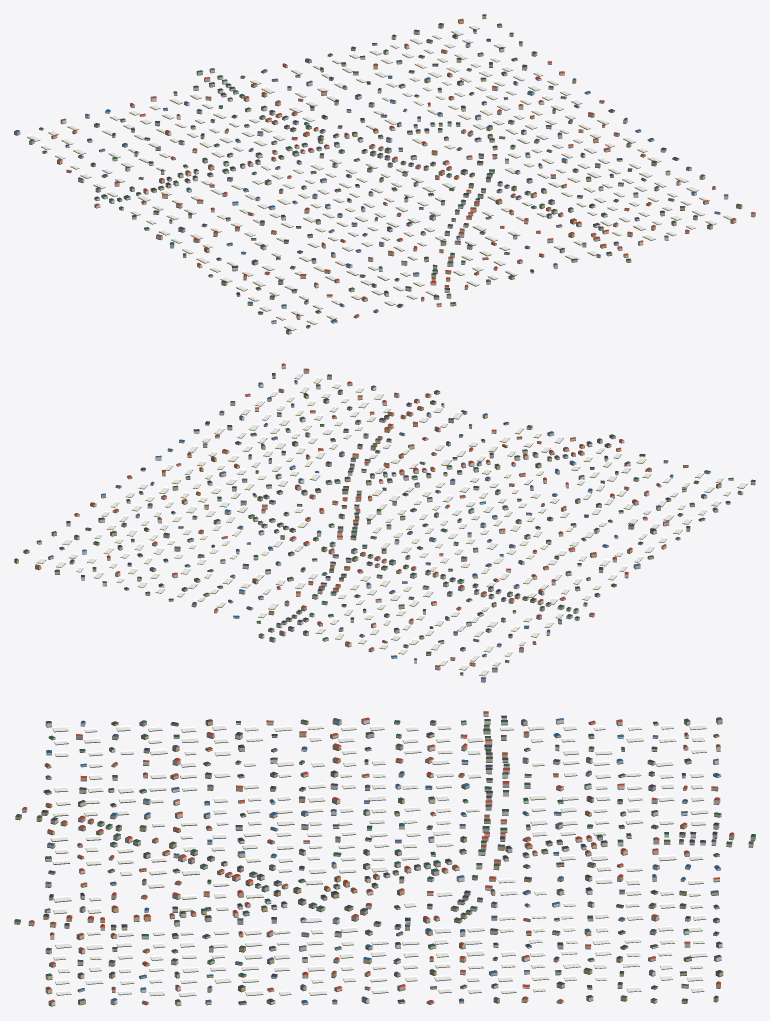
The model's file is buildings_T_E04_N03.glb.
The picture shows the model from 3 angles, top to bottom: view 1: azimuth 30°, elevation 25°; view 2: azimuth 150°, elevation 25°; view 3: azimuth 270°, elevation 25°; orthographic projection. The views are drawn at different scales.
Parts seen in each view (by area): view 1: T_E04_N03_roofs_agri_greenhouse_arch, T_E04_N03_slope_seating_foundations, T_E04_N03_walls_wall_dalat_cream_stucco, T_E04_N03_walls_wall_pastel_sand_gray, T_E04_N03_walls_wall_french_ochre_villa, T_E04_N03_walls_wall_modern_warm_white, T_E04_N03_roofs_roof_terracotta_gable, T_E04_N03_roofs_roof_slate_French_villa_hip, T_E04_N03_roofs_roof_pine_green_hip, T_E04_N03_roofs_roof_highland_blue_gable; view 2: T_E04_N03_roofs_agri_greenhouse_arch, T_E04_N03_slope_seating_foundations, T_E04_N03_walls_wall_dalat_cream_stucco, T_E04_N03_walls_wall_french_ochre_villa, T_E04_N03_walls_wall_pastel_sand_gray, T_E04_N03_roofs_roof_terracotta_gable, T_E04_N03_roofs_roof_slate_French_villa_hip, T_E04_N03_walls_wall_modern_warm_white, T_E04_N03_roofs_roof_pine_green_hip, T_E04_N03_roofs_roof_highland_blue_gable; view 3: T_E04_N03_roofs_agri_greenhouse_arch, T_E04_N03_slope_seating_foundations, T_E04_N03_walls_wall_dalat_cream_stucco, T_E04_N03_walls_wall_french_ochre_villa, T_E04_N03_walls_wall_pastel_sand_gray, T_E04_N03_roofs_roof_terracotta_gable, T_E04_N03_roofs_roof_slate_French_villa_hip, T_E04_N03_walls_wall_modern_warm_white, T_E04_N03_roofs_roof_pine_green_hip, T_E04_N03_roofs_roof_highland_blue_gable.
Part boxes in pixels (x1=…): T_E04_N03_roofs_agri_greenhouse_arch: x1=27, y1=24, x2=734, y2=330; T_E04_N03_slope_seating_foundations: x1=14, y1=18, x2=755, y2=334; T_E04_N03_walls_wall_dalat_cream_stucco: x1=42, y1=34, x2=736, y2=327; T_E04_N03_walls_wall_pastel_sand_gray: x1=14, y1=40, x2=715, y2=319; T_E04_N03_walls_wall_french_ochre_villa: x1=39, y1=16, x2=742, y2=314; T_E04_N03_walls_wall_modern_warm_white: x1=60, y1=30, x2=755, y2=333; T_E04_N03_roofs_roof_terracotta_gable: x1=52, y1=18, x2=755, y2=316; T_E04_N03_roofs_roof_slate_French_villa_hip: x1=42, y1=14, x2=697, y2=331; T_E04_N03_roofs_roof_pine_green_hip: x1=29, y1=23, x2=741, y2=327; T_E04_N03_roofs_roof_highland_blue_gable: x1=14, y1=42, x2=728, y2=321; T_E04_N03_roofs_agri_greenhouse_arch: x1=36, y1=372, x2=747, y2=675; T_E04_N03_slope_seating_foundations: x1=14, y1=368, x2=755, y2=682; T_E04_N03_walls_wall_dalat_cream_stucco: x1=36, y1=369, x2=733, y2=666; T_E04_N03_walls_wall_french_ochre_villa: x1=14, y1=375, x2=730, y2=675; T_E04_N03_walls_wall_pastel_sand_gray: x1=59, y1=383, x2=721, y2=681; T_E04_N03_roofs_roof_terracotta_gable: x1=35, y1=363, x2=721, y2=666; T_E04_N03_roofs_roof_slate_French_villa_hip: x1=14, y1=384, x2=755, y2=661; T_E04_N03_walls_wall_modern_warm_white: x1=48, y1=365, x2=755, y2=669; T_E04_N03_roofs_roof_pine_green_hip: x1=23, y1=373, x2=733, y2=674; T_E04_N03_roofs_roof_highland_blue_gable: x1=82, y1=380, x2=742, y2=679; T_E04_N03_roofs_agri_greenhouse_arch: x1=50, y1=724, x2=708, y2=996; T_E04_N03_slope_seating_foundations: x1=14, y1=715, x2=755, y2=1006; T_E04_N03_walls_wall_dalat_cream_stucco: x1=28, y1=722, x2=753, y2=1005; T_E04_N03_walls_wall_french_ochre_villa: x1=14, y1=720, x2=723, y2=1004; T_E04_N03_walls_wall_pastel_sand_gray: x1=44, y1=718, x2=755, y2=1004; T_E04_N03_roofs_roof_terracotta_gable: x1=22, y1=711, x2=734, y2=1003; T_E04_N03_roofs_roof_slate_French_villa_hip: x1=41, y1=715, x2=723, y2=1003; T_E04_N03_walls_wall_modern_warm_white: x1=22, y1=713, x2=722, y2=1006; T_E04_N03_roofs_roof_pine_green_hip: x1=14, y1=718, x2=755, y2=1002; T_E04_N03_roofs_roof_highland_blue_gable: x1=45, y1=717, x2=722, y2=1003.
Size of the model in its own units: 1803 by 35.39 by 1915.
